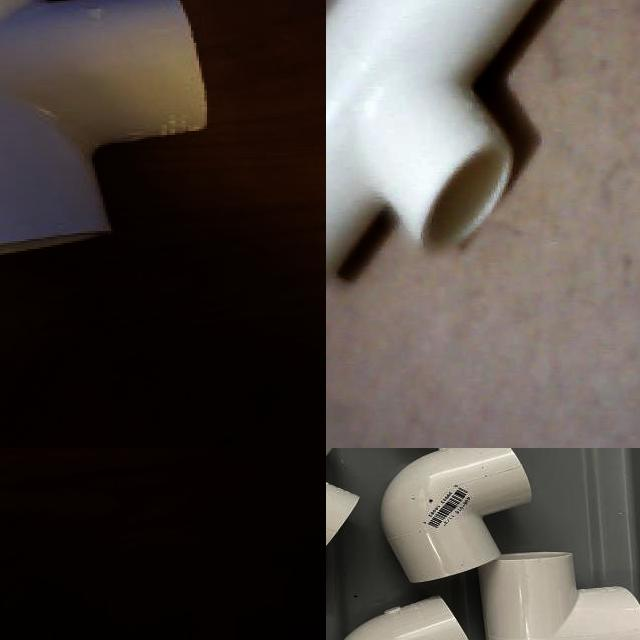L Joint: (379, 448, 529, 585)
T Joint: (326, 0, 541, 278), (478, 552, 640, 640)
